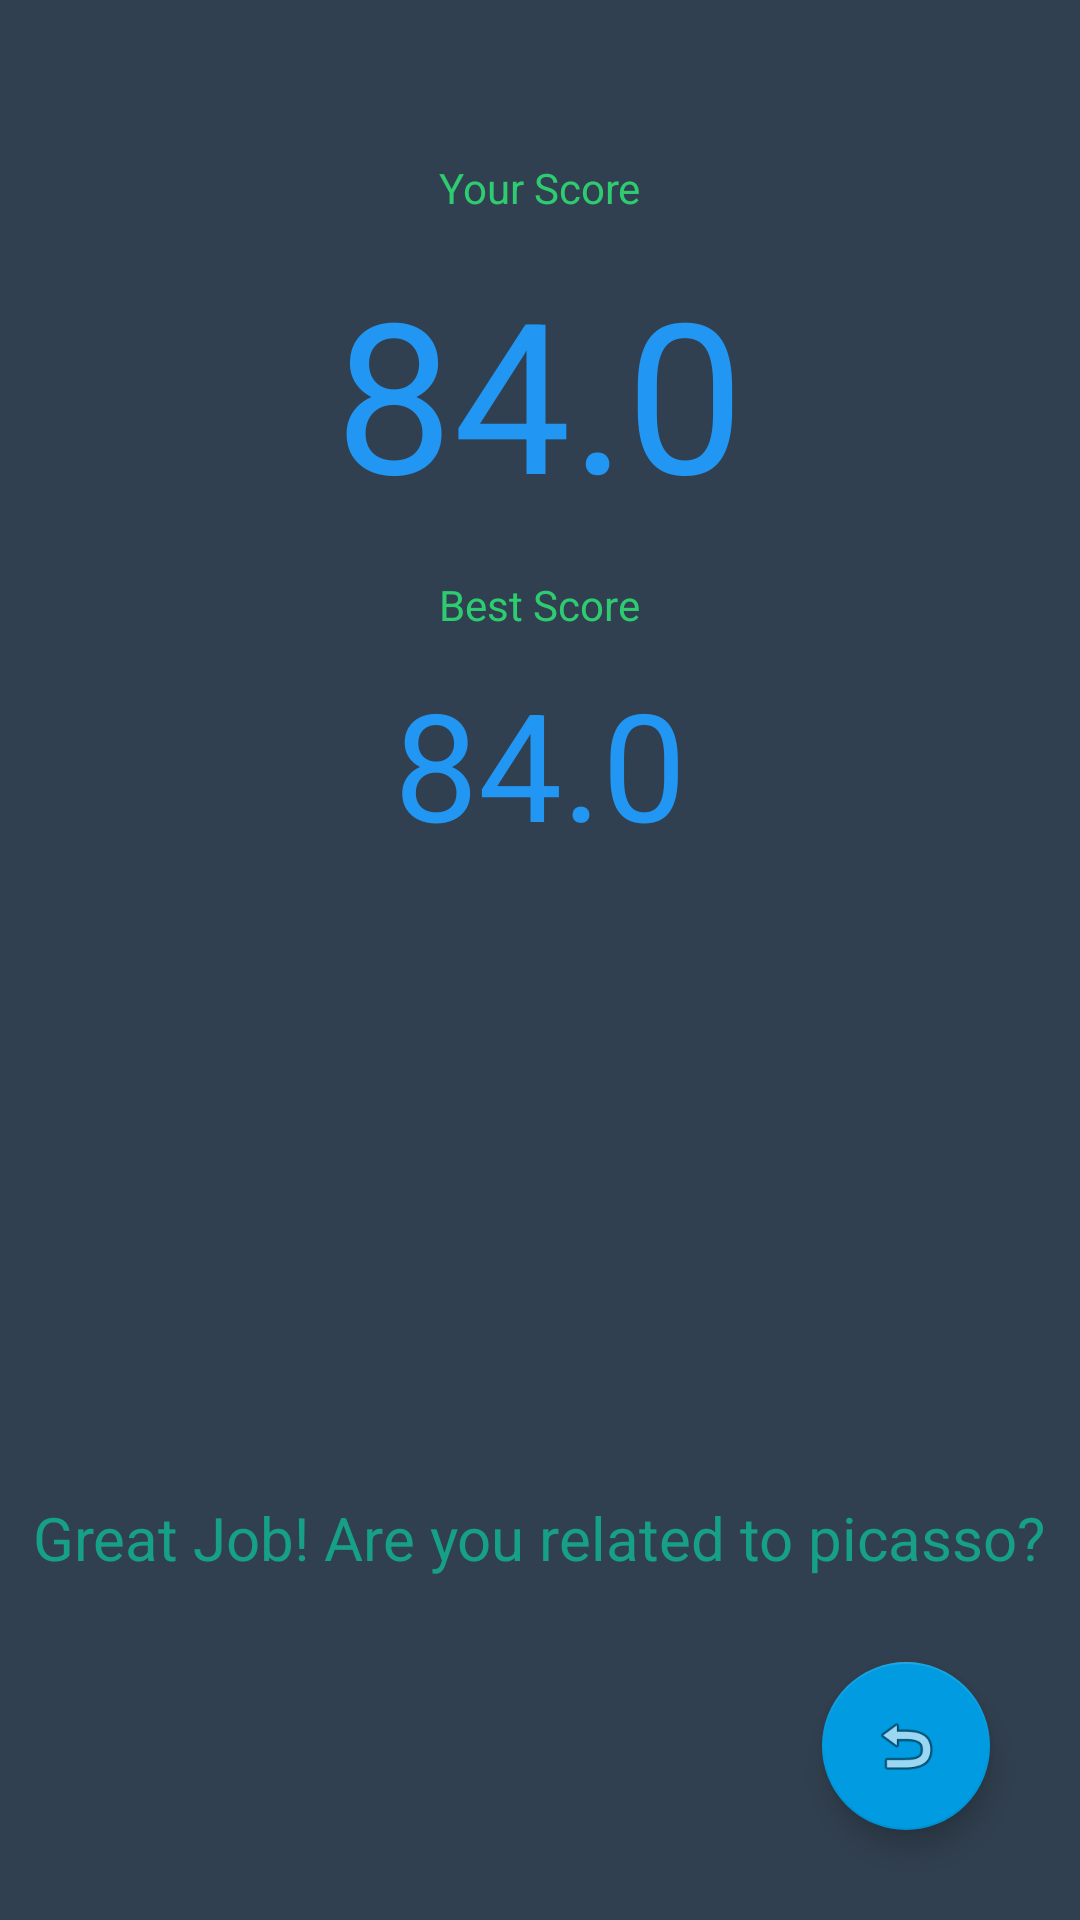

Icon bounding boxes for this 1080 x 1920 phone screenshot, format (x1, y1, x2, y2):
revert: (822, 1662, 990, 1830)
